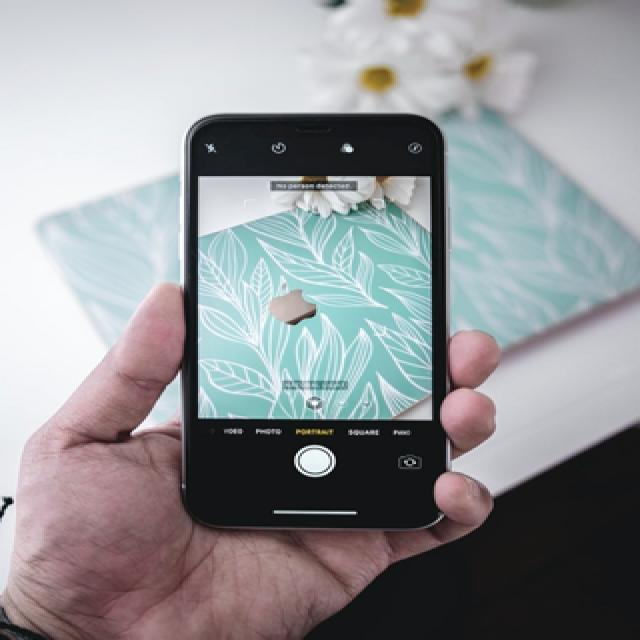cellphone: (178, 110, 450, 532)
